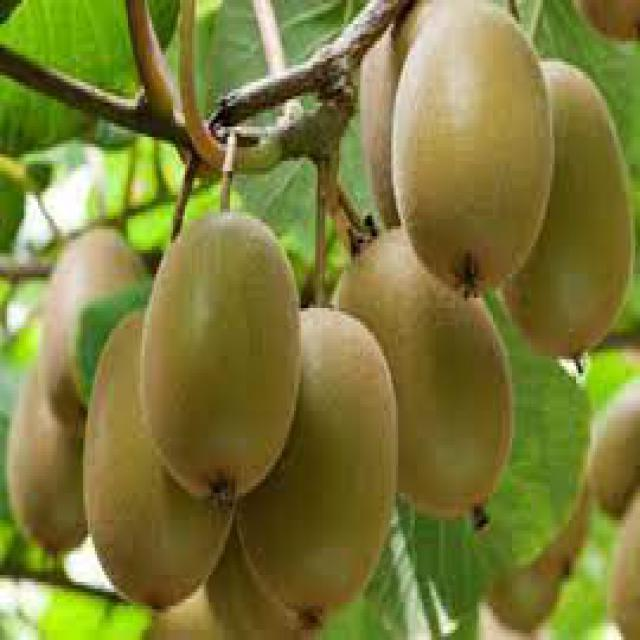kiwi: (245, 299, 399, 618), (392, 4, 553, 299), (340, 248, 513, 515), (139, 220, 305, 491), (87, 326, 241, 614), (44, 227, 149, 418), (11, 374, 87, 552)
